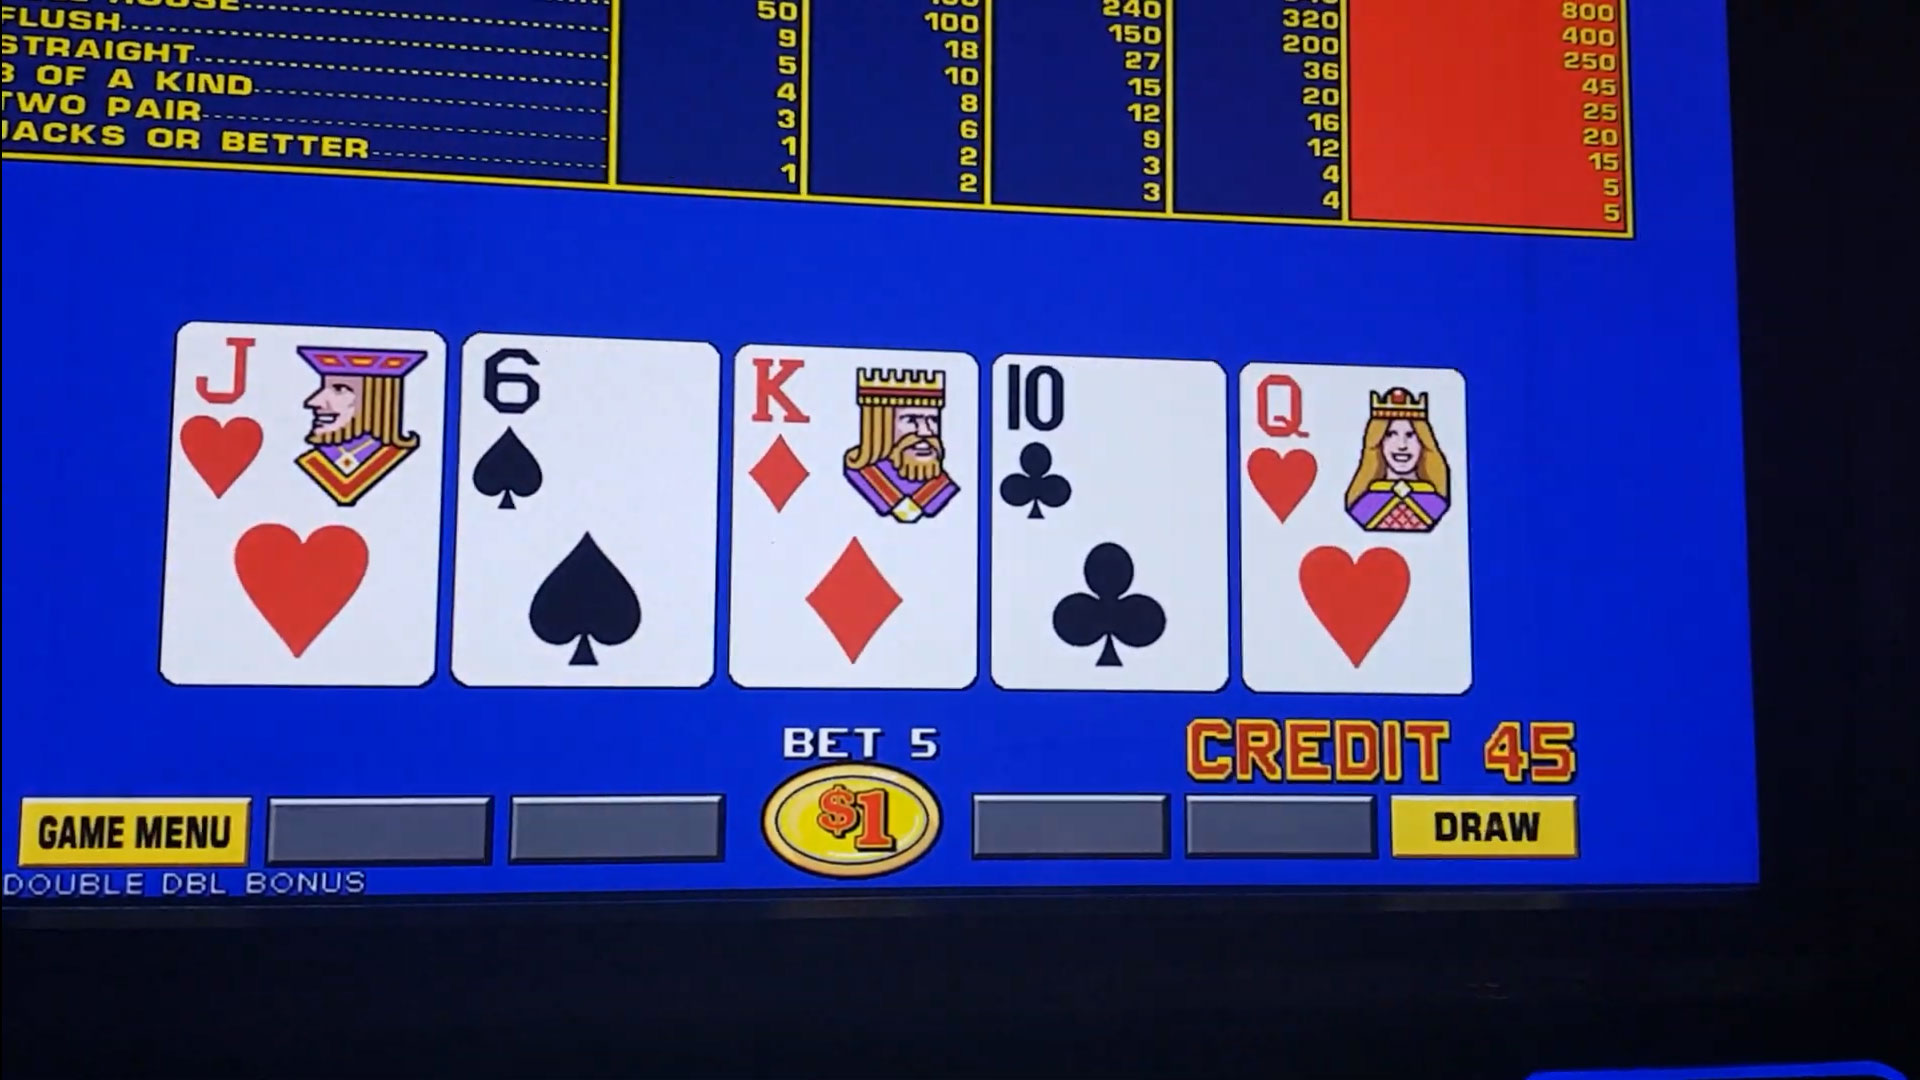CT: (992, 367, 1224, 529)
DK: (741, 357, 971, 514)
HJ: (182, 331, 442, 516)
HQ: (1246, 373, 1458, 535)
S6: (465, 345, 715, 517)
